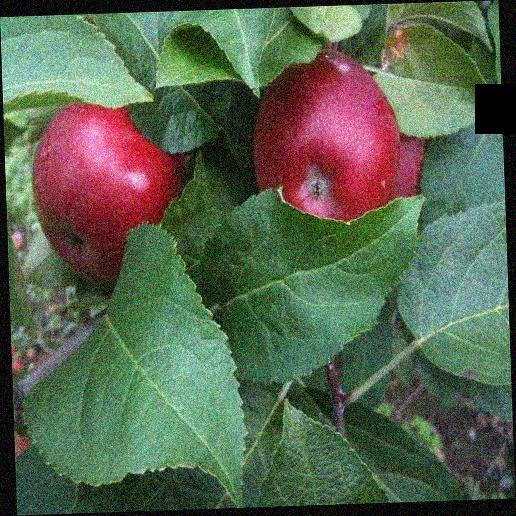red apple: (27, 93, 199, 290), (247, 47, 421, 227)
